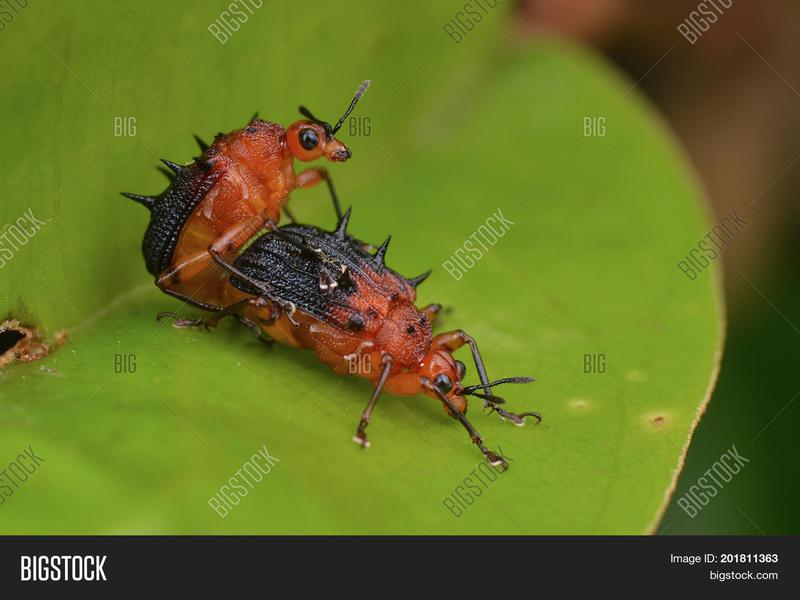Spiny_beetle: (123, 100, 515, 422)
